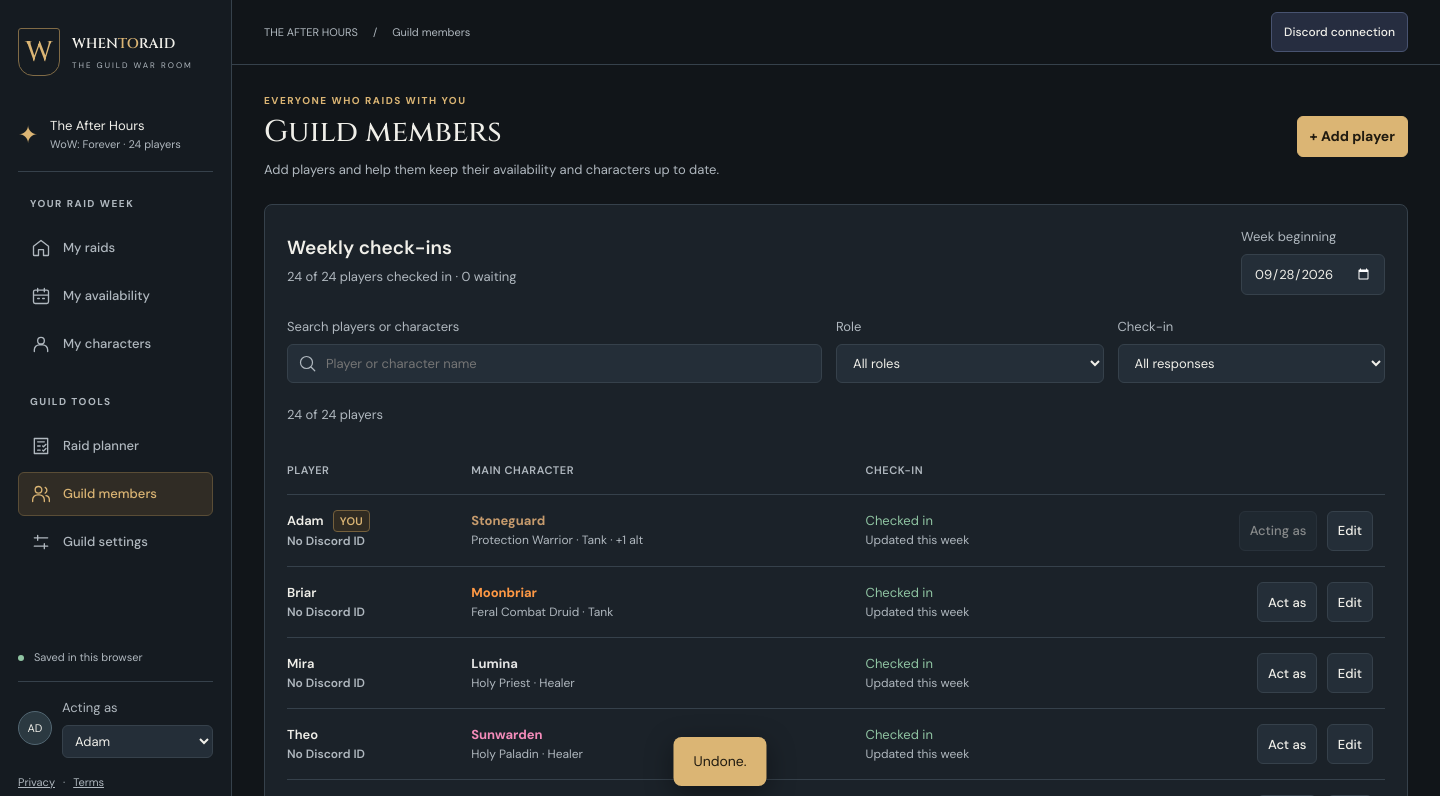
Test: undo › Undo refuses once something else has changed
The image size is (1440, 796).
Step 1. Click the button with aria-label "Edit Briar" → {"x": 1350, "y": 602}, box [1327,582,1373,622]
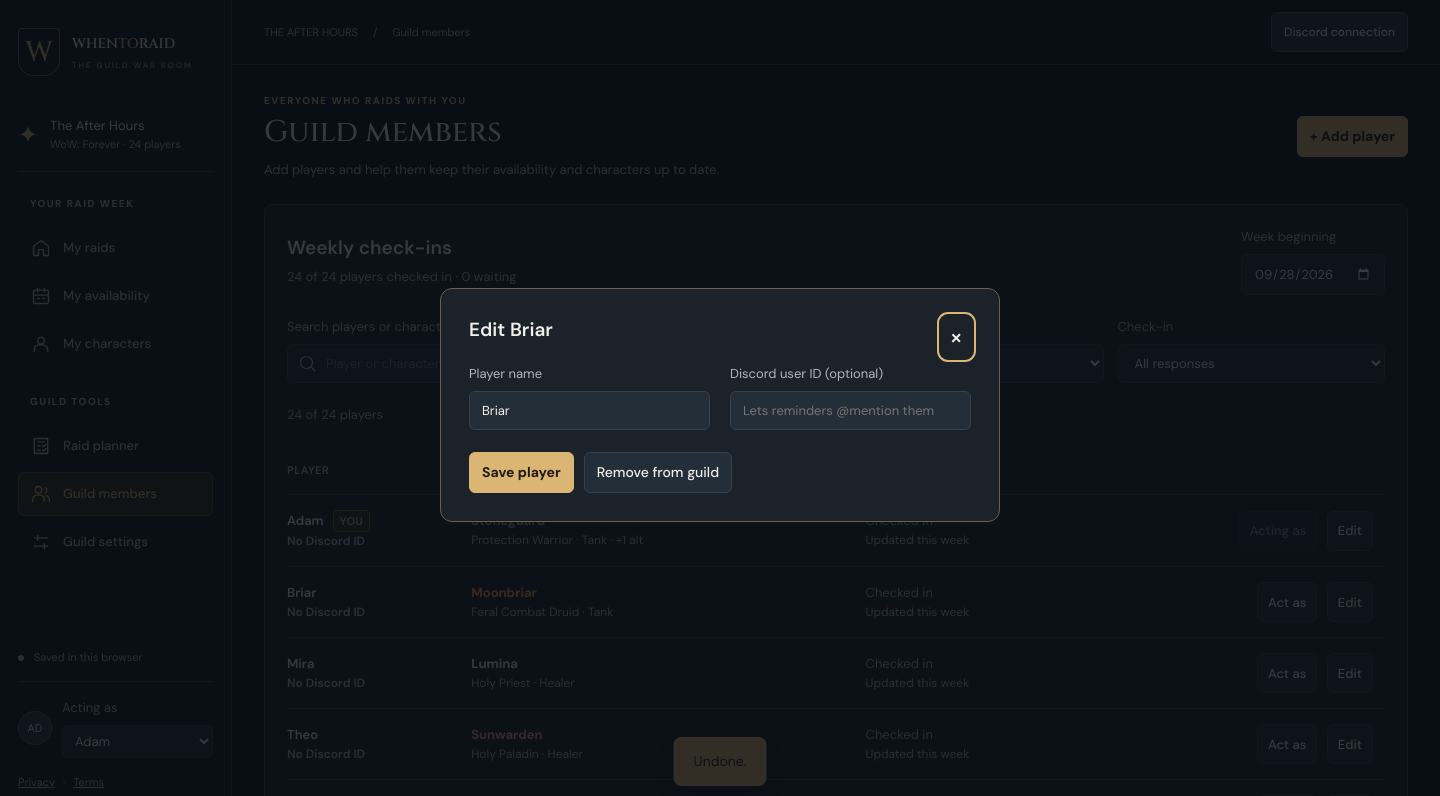
Step 2. Click the button "Remove from guild" → {"x": 658, "y": 473}, box [584,452,732,493]
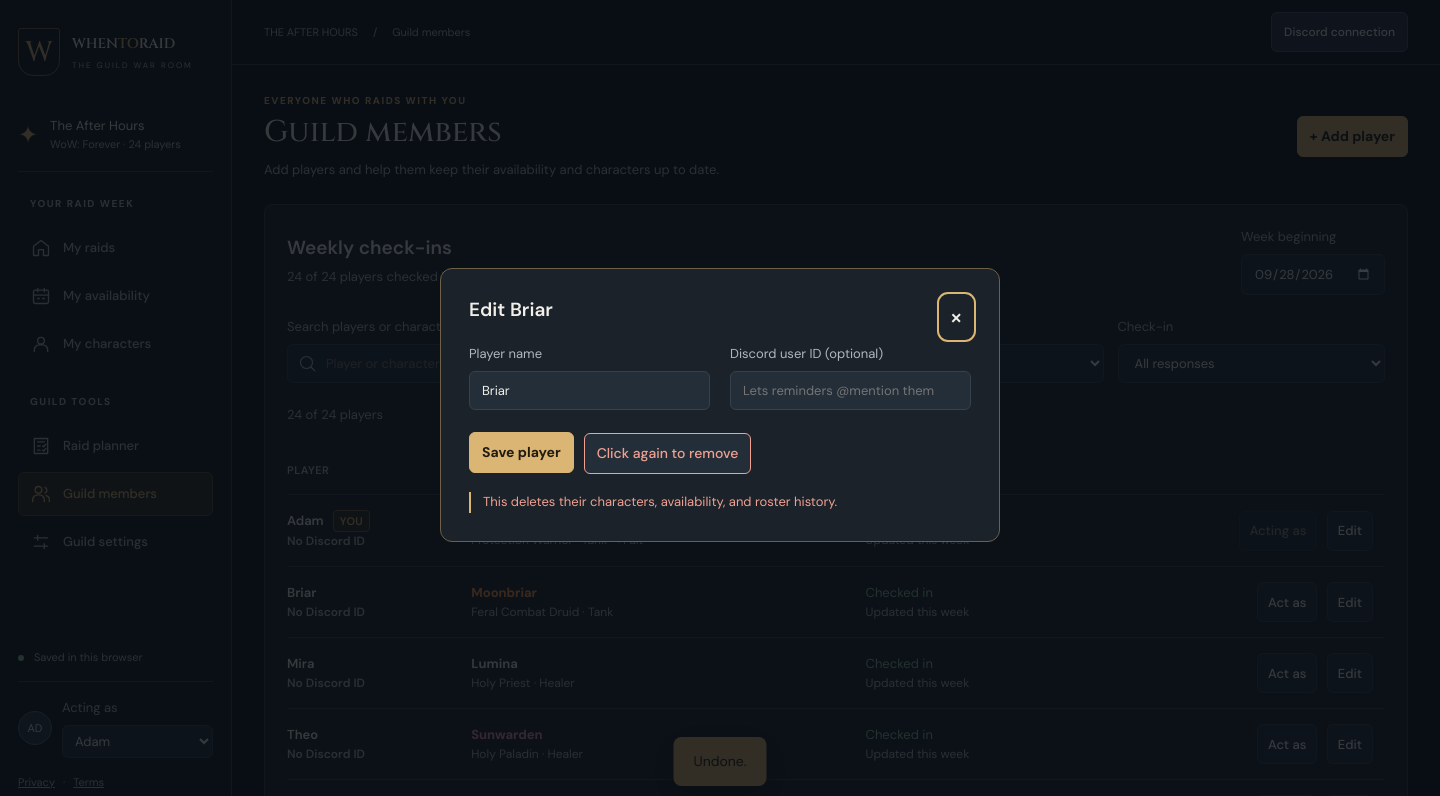
Step 3. Click the button "Click again to remove" → {"x": 667, "y": 453}, box [584,433,751,474]
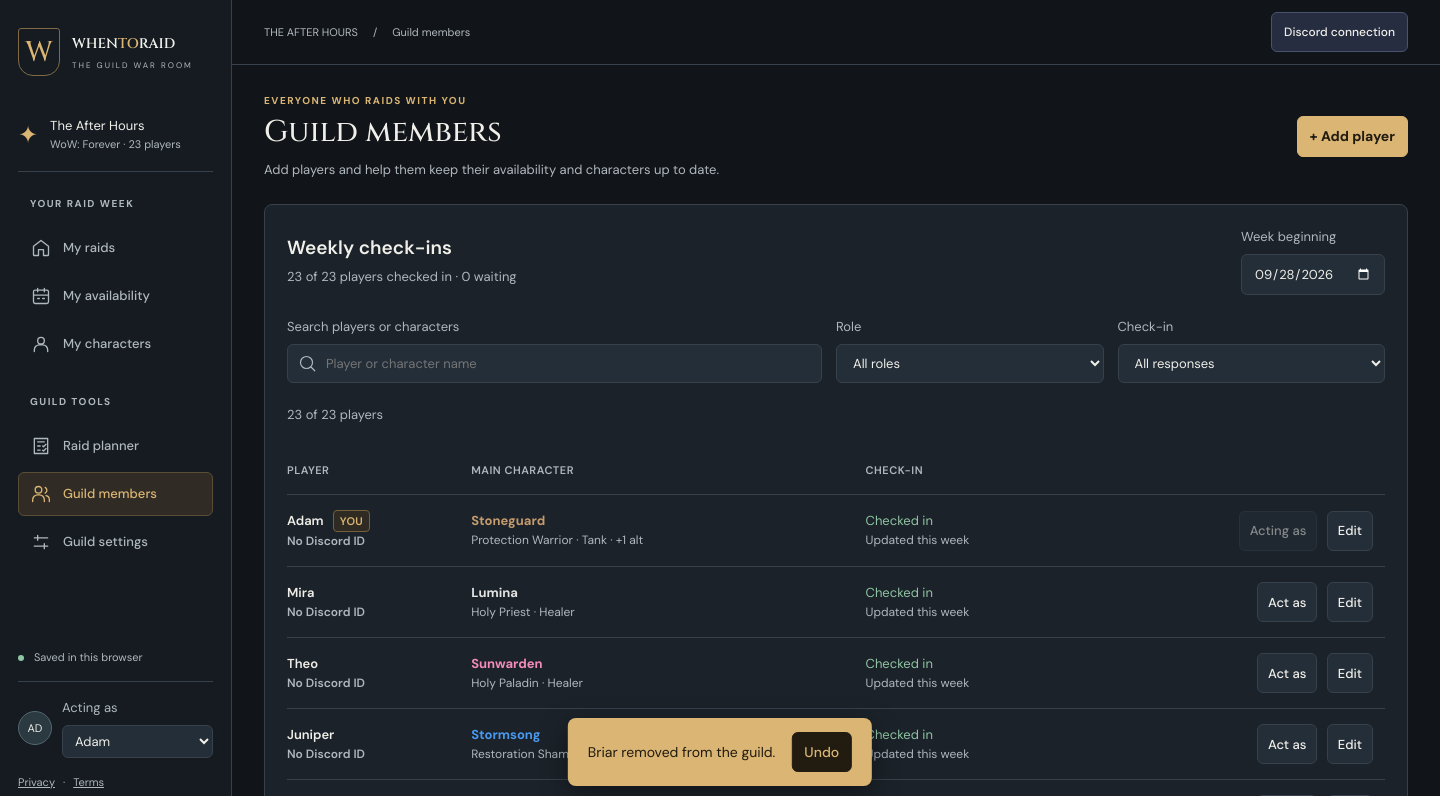
Step 4. Click the button "Undo" → {"x": 822, "y": 752}, box [791,732,852,772]
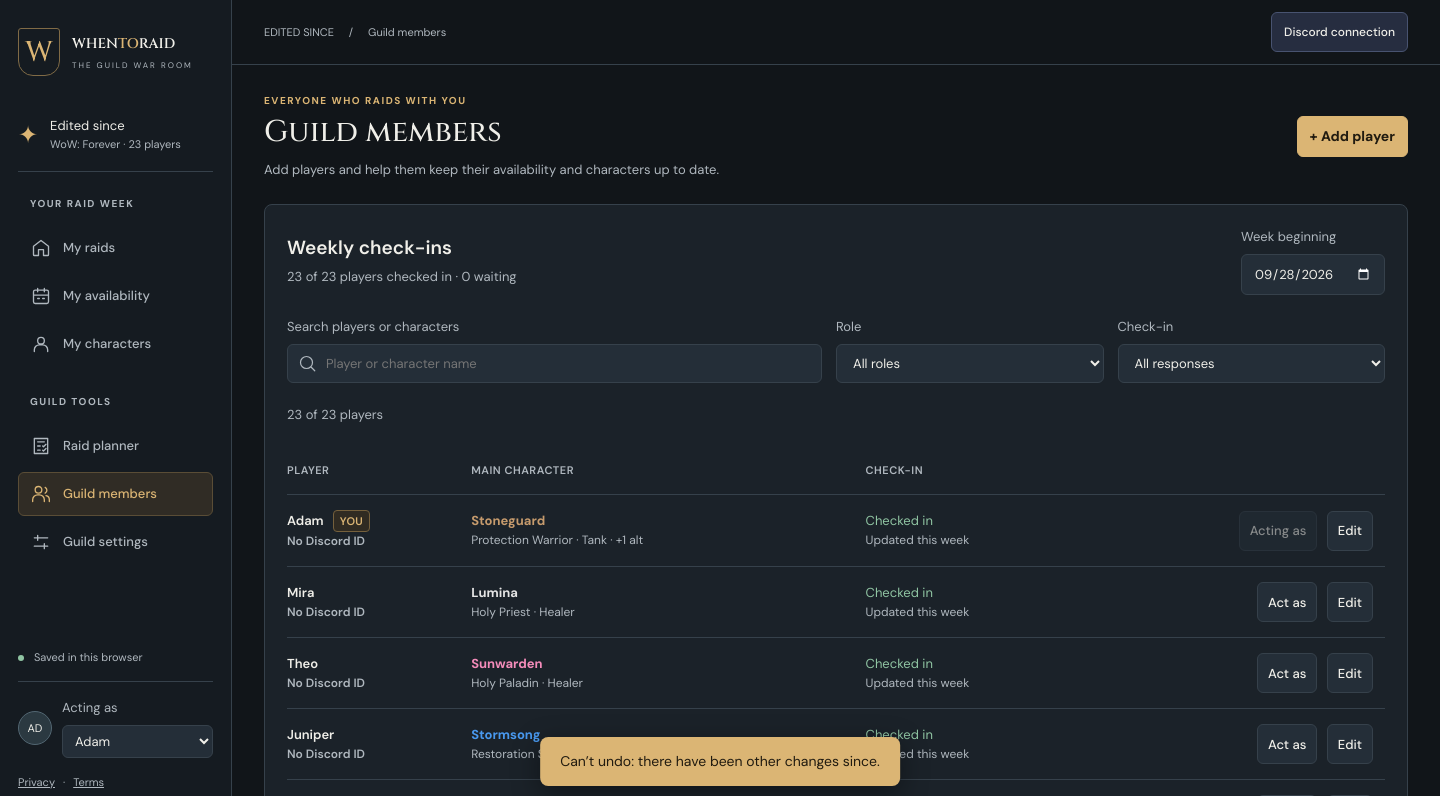
Expected: the text "Can’t undo: there have been other changes since." is shown, [560,751,880,772]
